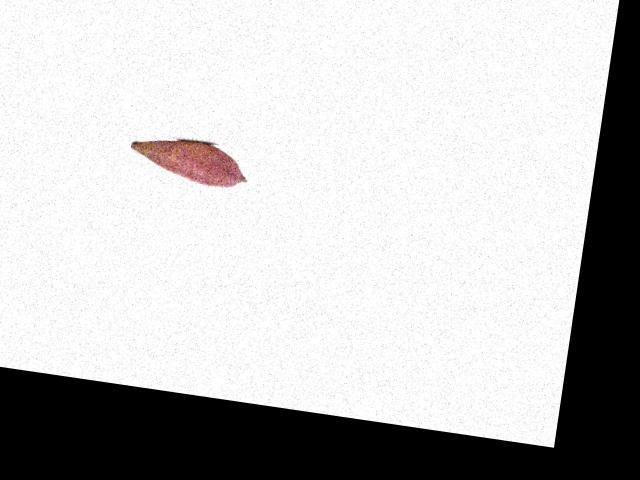sweet_potato: (127, 134, 251, 191)
